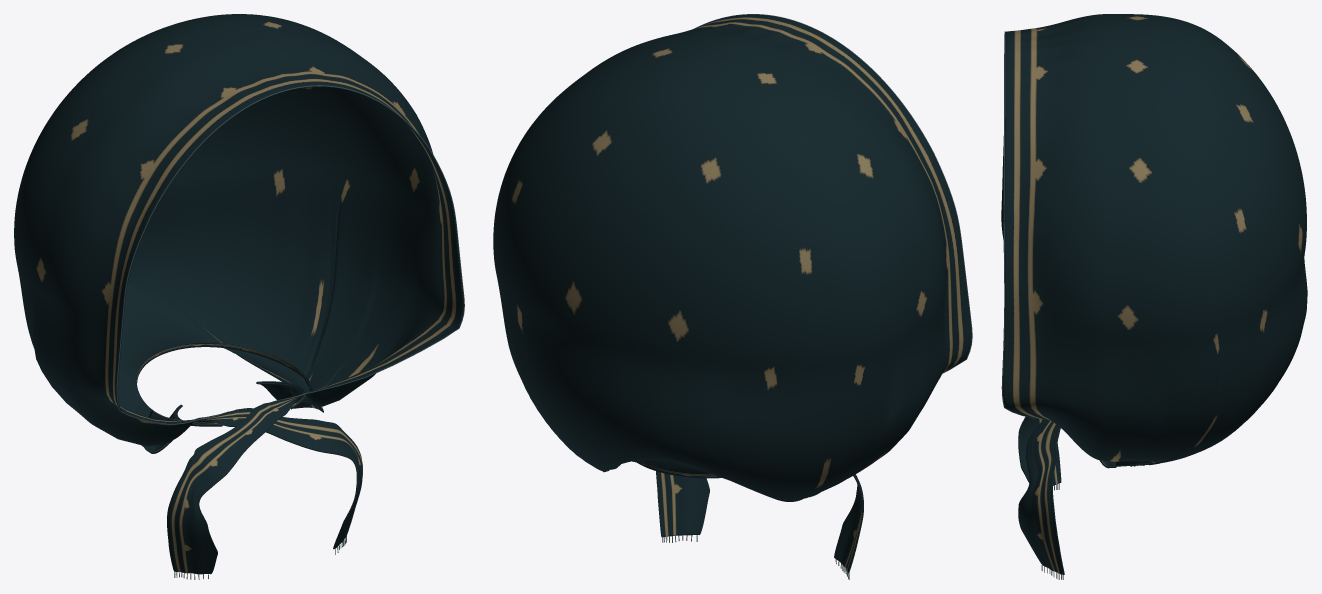
File: Feminine-ponytail-tshirt-pashmina250-headgear.glb
3 views of the same model, side by side, from view 1: azimuth 30°, elevation 25°; view 2: azimuth 150°, elevation 25°; view 3: azimuth 270°, elevation 25° (orthographic). The views are drawn at different scales.
Visible parts, largest first — view 1: 226 headgear / Headwear / continuous woven pashmina239, 226 headgear / Headwear / face edge239; view 2: 226 headgear / Headwear / continuous woven pashmina239, 226 headgear / Headwear / face edge239; view 3: 226 headgear / Headwear / continuous woven pashmina239, 226 headgear / Headwear / face edge239.
Part boxes in pixels (x1=…): 226 headgear / Headwear / continuous woven pashmina239: x1=14, y1=14, x2=463, y2=574; 226 headgear / Headwear / face edge239: x1=116, y1=85, x2=464, y2=425; 226 headgear / Headwear / continuous woven pashmina239: x1=493, y1=14, x2=971, y2=573; 226 headgear / Headwear / face edge239: x1=694, y1=14, x2=972, y2=372; 226 headgear / Headwear / continuous woven pashmina239: x1=1001, y1=14, x2=1307, y2=574; 226 headgear / Headwear / face edge239: x1=1001, y1=31, x2=1040, y2=419.
Size of the model in its own units: 1.07 by 1.38 by 0.7569.
3 materials, 1 textured.
